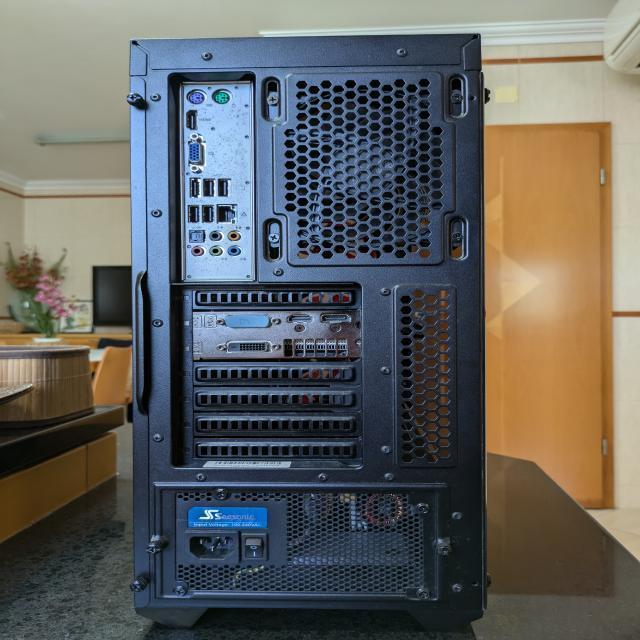PSU: (155, 484, 438, 600)
